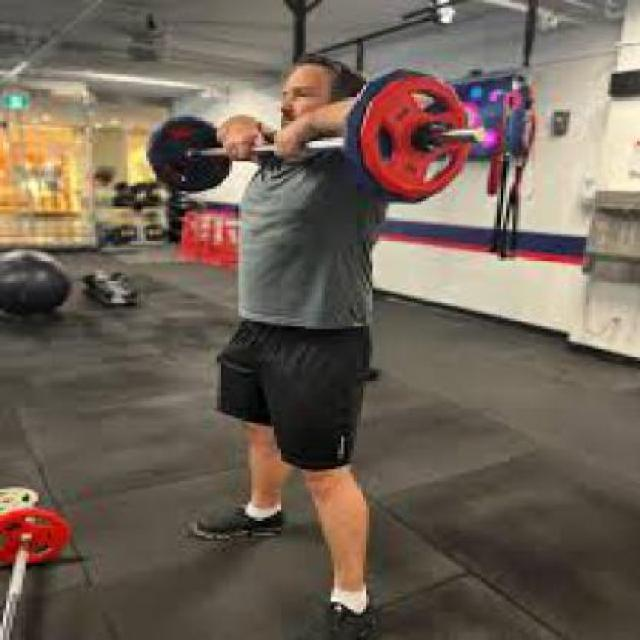barbell: (336, 63, 481, 214)
